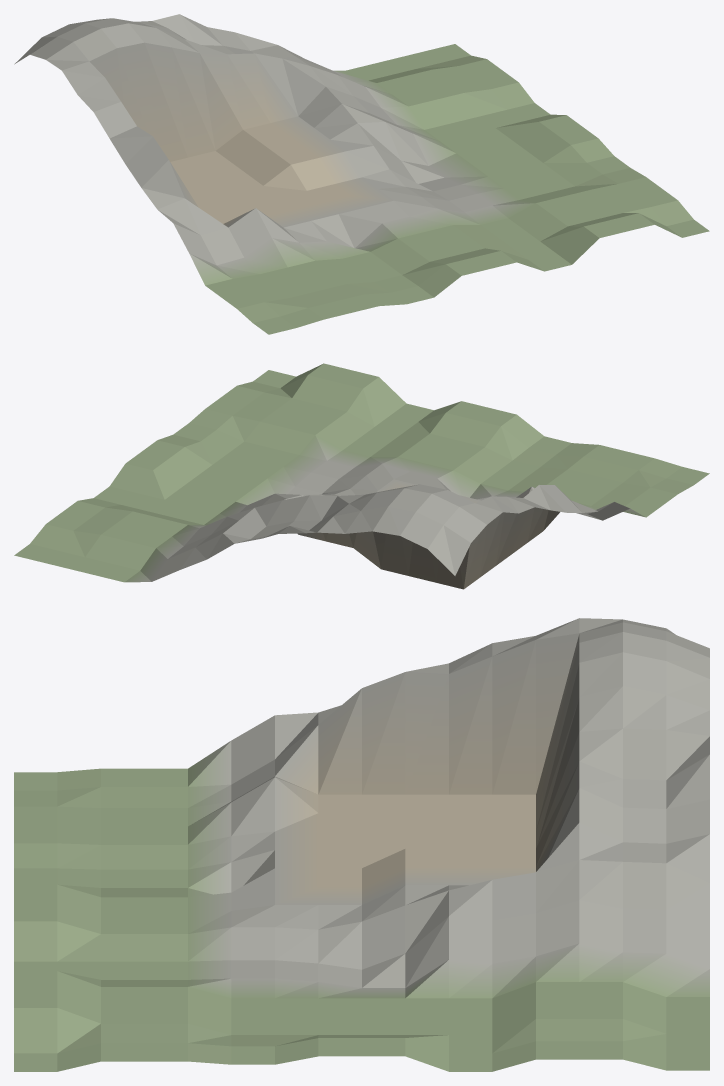
3 renders of one model, top to bottom at view 1: azimuth 30°, elevation 25°; view 2: azimuth 150°, elevation 25°; view 3: azimuth 270°, elevation 25°, orthographic. The views are drawn at different scales.
Bounding box in the file's own units: 32 × 9.84 × 32.
